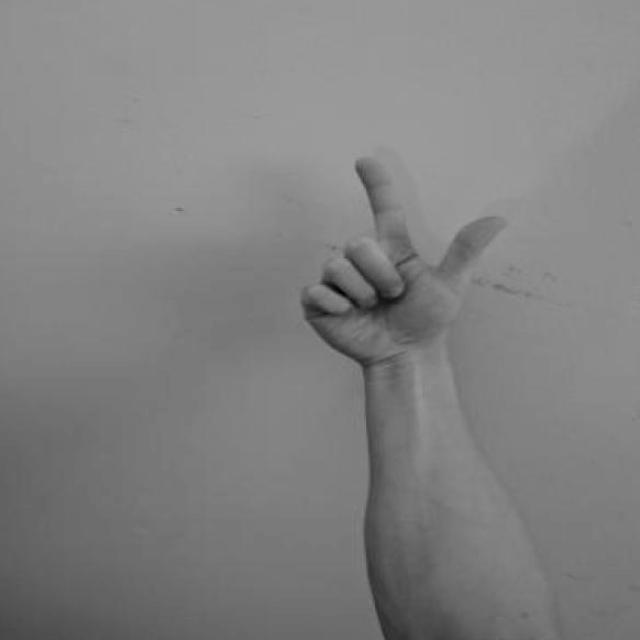L: (296, 136, 520, 397)
